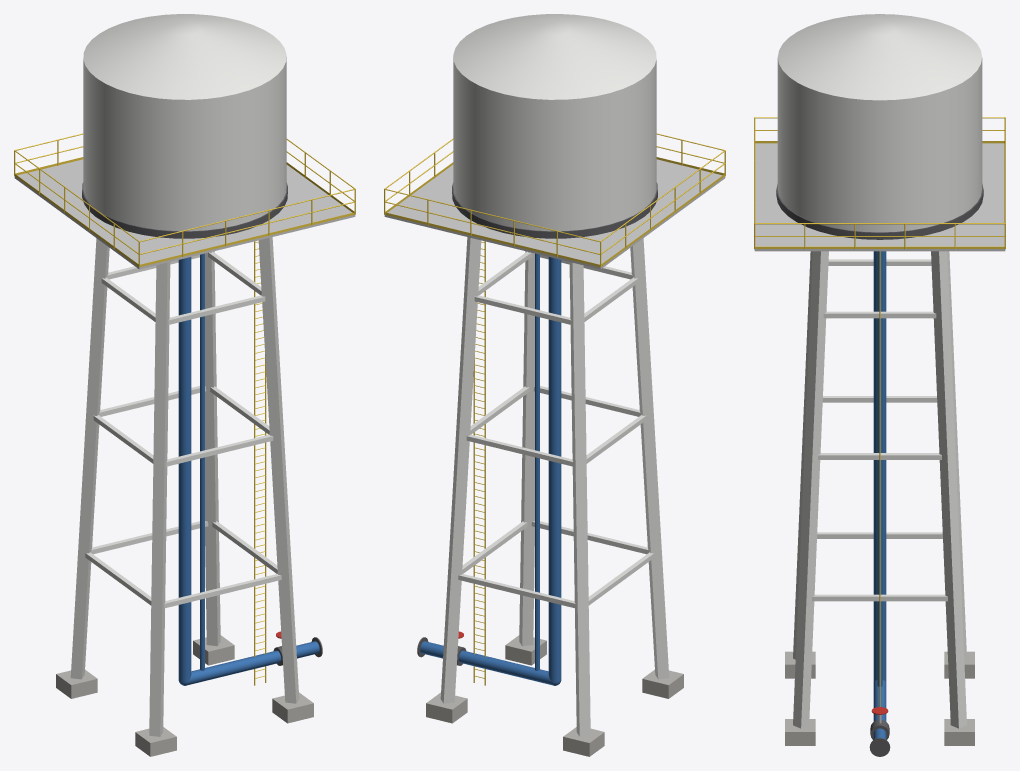
Rendered from SM_EmergencyWaterTank.fbx.
3 views of the same model, side by side, from view 1: azimuth 30°, elevation 25°; view 2: azimuth 150°, elevation 25°; view 3: azimuth 270°, elevation 25° (orthographic).
Parts seen in each view (by area): view 1: EWT_Tank; view 2: EWT_Tank; view 3: EWT_Tank.
Part boxes in pixels (bbox=[...]): EWT_Tank: bbox=[14, 14, 355, 756]; EWT_Tank: bbox=[384, 14, 725, 756]; EWT_Tank: bbox=[754, 14, 1005, 756].
Size of the model in its own units: 1095 by 2921 by 985.
